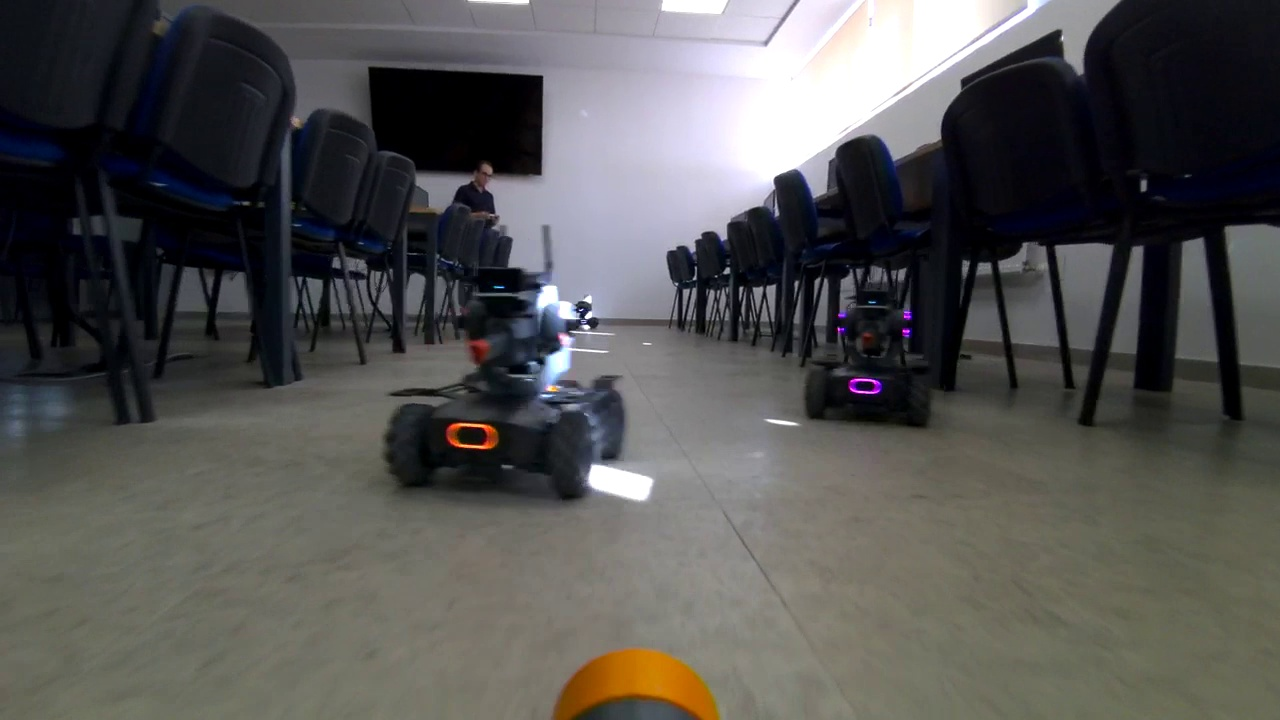robot: (386, 264, 628, 497), (793, 290, 928, 431)
